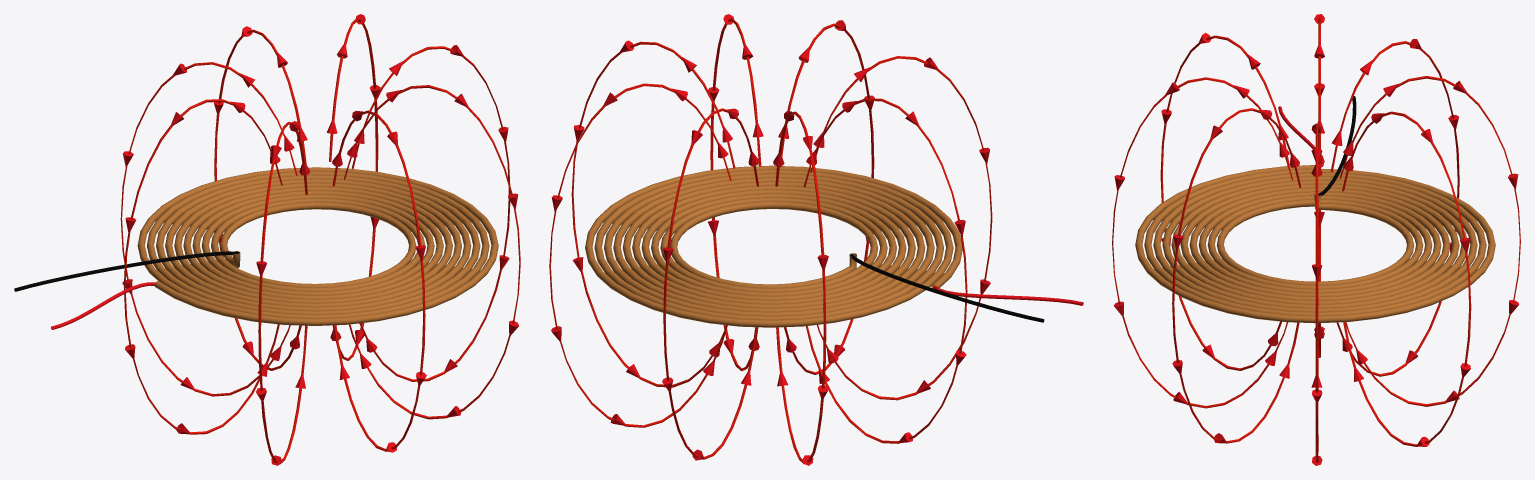
The model's file is 发射线圈.glb.
The picture shows the model from 3 angles, left to right: view 1: azimuth 30°, elevation 25°; view 2: azimuth 150°, elevation 25°; view 3: azimuth 270°, elevation 25°; orthographic projection. The views are drawn at different scales.
Visible parts, largest first — view 1: Spiral, 磁感线2, 磁感线1, 贝塞尔曲线; view 2: Spiral, 磁感线2, 磁感线1, 贝塞尔曲线, 贝塞尔曲线.001; view 3: Spiral, 磁感线2, 磁感线1.
Boxes of the visible parts, left/top/right/bottom form: Spiral: left=137, top=167, right=498, bottom=325; 磁感线2: left=120, top=14, right=520, bottom=465; 磁感线1: left=124, top=26, right=510, bottom=452; 贝塞尔曲线: left=14, top=251, right=238, bottom=291; Spiral: left=585, top=165, right=962, bottom=327; 磁感线2: left=549, top=14, right=992, bottom=465; 磁感线1: left=571, top=20, right=967, bottom=460; 贝塞尔曲线: left=850, top=254, right=1044, bottom=322; 贝塞尔曲线.001: left=933, top=285, right=1083, bottom=305; Spiral: left=1135, top=165, right=1495, bottom=323; 磁感线2: left=1160, top=32, right=1471, bottom=446; 磁感线1: left=1112, top=14, right=1520, bottom=465.
Bounding box in the file's own units: 12.05 × 8.06 × 9.03.
